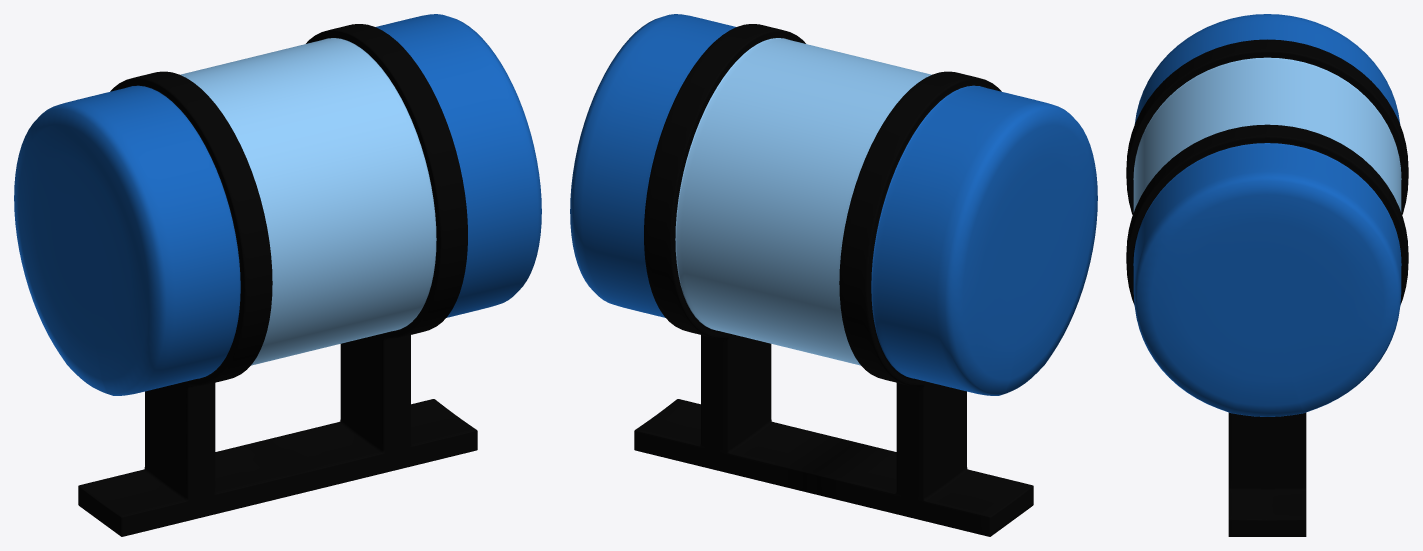
File: StorageBuilding.fbx
3 renders of one model, left to right at view 1: azimuth 30°, elevation 25°; view 2: azimuth 150°, elevation 25°; view 3: azimuth 270°, elevation 25°, orthographic. The views are drawn at different scales.
Parts seen in each view (by area): view 1: Cylinder.001; view 2: Cylinder.001; view 3: Cylinder.001.
Part boxes in pixels (x1=…): Cylinder.001: x1=14, y1=14, x2=541, y2=536; Cylinder.001: x1=570, y1=14, x2=1097, y2=536; Cylinder.001: x1=1126, y1=14, x2=1408, y2=536.
Bounding box in the file's own units: 1.5 × 1.52 × 1.05.
